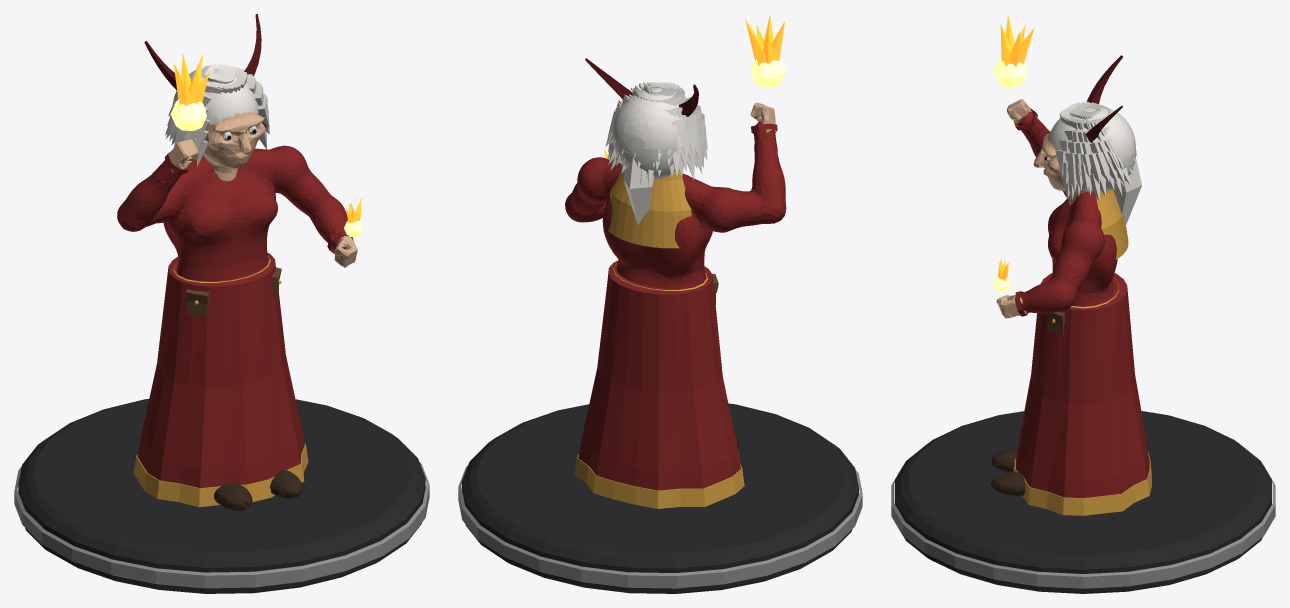
Rendered from sorcerer.glb.
The picture shows the model from 3 angles, left to right: view 1: azimuth 30°, elevation 25°; view 2: azimuth 150°, elevation 25°; view 3: azimuth 270°, elevation 25°; orthographic projection. The views are drawn at different scales.
Parts seen in each view (by area): view 1: sorcerer; view 2: sorcerer; view 3: sorcerer.
Part boxes in pixels (bbox=[...]): sorcerer: bbox=[14, 14, 429, 593]; sorcerer: bbox=[458, 15, 862, 593]; sorcerer: bbox=[891, 14, 1275, 593].
Bounding box in the file's own units: 0.856 × 1.13 × 0.8498.
